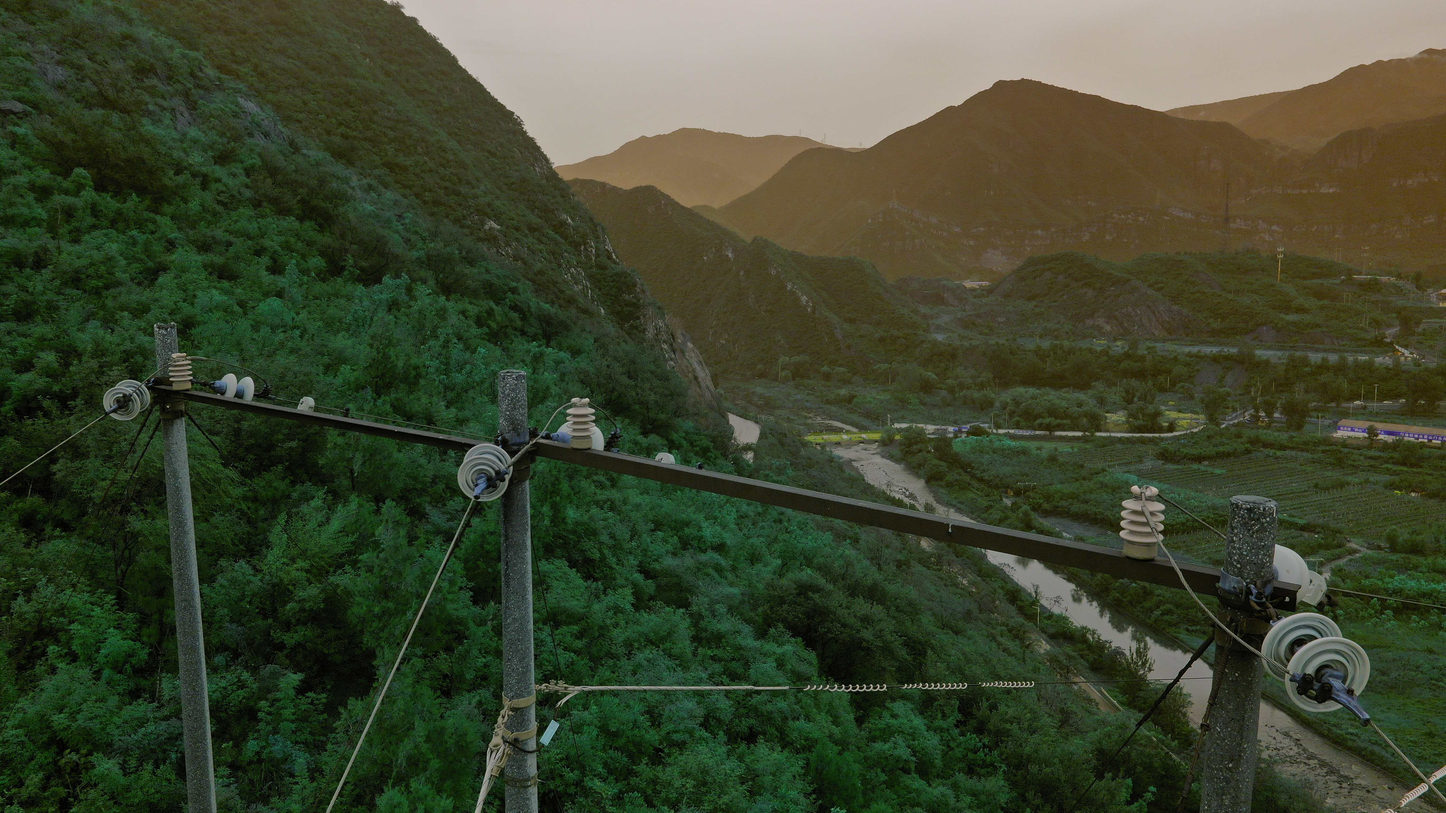severe_soiling_no_discharge_whole: (453, 442, 515, 499), (103, 379, 152, 419)
